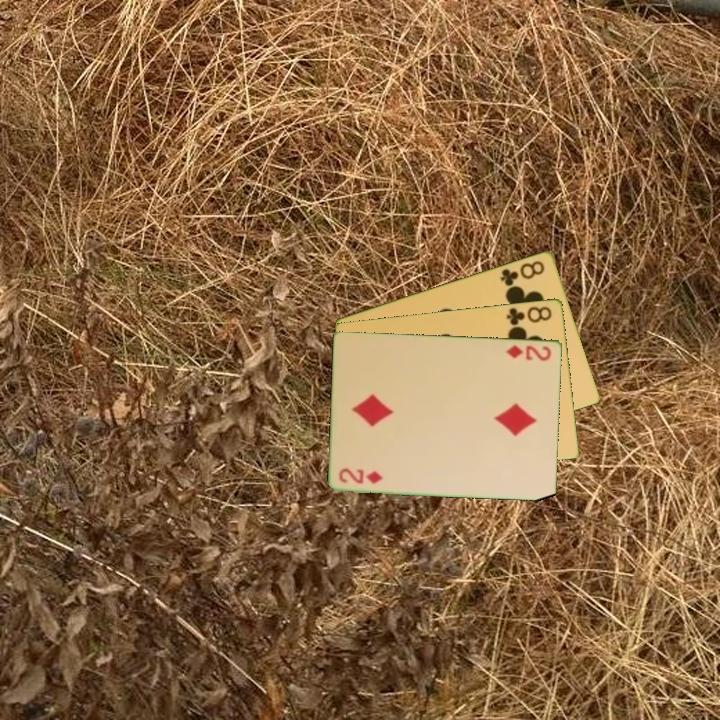2d: (502, 341, 555, 363), (336, 466, 386, 486)
8c: (497, 257, 548, 289), (503, 303, 555, 328)
